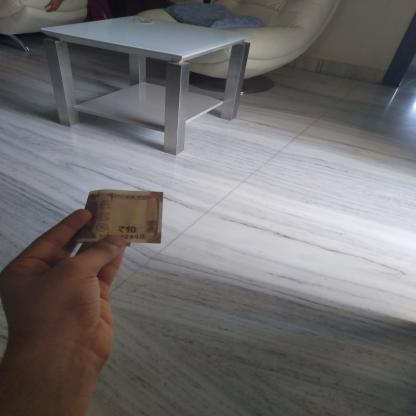New10Front: (84, 192, 162, 242)
